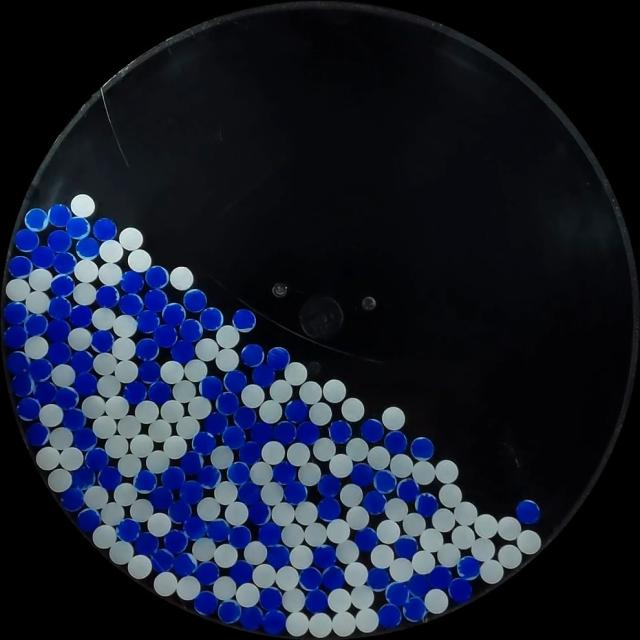pmmma-azul: (14, 228, 40, 253), (427, 565, 452, 591), (515, 499, 540, 525), (35, 381, 61, 406), (70, 468, 99, 490), (48, 296, 73, 321), (72, 426, 97, 451), (150, 548, 175, 573), (164, 528, 188, 554), (194, 590, 218, 616), (321, 565, 345, 591), (448, 576, 472, 602), (262, 609, 286, 635), (179, 450, 203, 476), (92, 217, 118, 241), (402, 596, 426, 622), (172, 552, 196, 577), (360, 418, 384, 443), (183, 515, 208, 539), (16, 397, 41, 421), (116, 518, 141, 542), (223, 369, 247, 394), (73, 371, 97, 396), (48, 203, 72, 228), (238, 481, 262, 506), (456, 556, 481, 580), (350, 462, 374, 487), (229, 560, 254, 584), (217, 600, 242, 624), (266, 544, 290, 569), (312, 544, 336, 569), (377, 603, 401, 628), (272, 461, 297, 485), (354, 527, 378, 552), (183, 288, 208, 312), (31, 245, 56, 269), (8, 255, 33, 279), (316, 497, 341, 521), (304, 588, 328, 613), (249, 419, 273, 444), (11, 372, 34, 398), (97, 466, 121, 490), (134, 531, 158, 555), (161, 466, 185, 490), (70, 350, 94, 374), (410, 436, 434, 460), (317, 474, 341, 498), (194, 561, 218, 585), (206, 518, 230, 542), (179, 480, 203, 504), (4, 324, 28, 348), (258, 522, 282, 546), (192, 431, 216, 455), (69, 304, 93, 328), (385, 582, 409, 606), (119, 292, 143, 316), (144, 288, 168, 312), (162, 302, 186, 326), (47, 340, 71, 364), (120, 270, 144, 294), (4, 301, 28, 325), (145, 265, 169, 289), (266, 346, 290, 370), (232, 308, 256, 332), (240, 606, 264, 630), (47, 318, 71, 342), (384, 429, 407, 454), (200, 306, 223, 331), (299, 566, 322, 591), (26, 422, 49, 447), (396, 478, 419, 503), (52, 252, 77, 275), (415, 492, 438, 517), (24, 208, 49, 231), (50, 274, 75, 297), (66, 216, 91, 239), (76, 508, 100, 531), (90, 329, 114, 352), (296, 420, 319, 444), (222, 424, 245, 448), (200, 375, 223, 399), (259, 587, 283, 610), (96, 285, 120, 308), (55, 386, 79, 409), (179, 319, 203, 342), (233, 406, 256, 430), (85, 447, 108, 471), (148, 380, 171, 404), (137, 361, 161, 384), (197, 464, 220, 488), (124, 381, 147, 405), (171, 339, 194, 363), (363, 490, 386, 514), (150, 486, 173, 510), (216, 391, 239, 415), (204, 411, 227, 435), (273, 421, 297, 444), (24, 313, 48, 336), (283, 481, 307, 504), (136, 309, 159, 333), (48, 230, 72, 253), (62, 408, 86, 431), (6, 351, 30, 374), (366, 567, 390, 590), (60, 488, 84, 511), (75, 238, 100, 260), (238, 442, 263, 464), (374, 468, 396, 493), (136, 338, 159, 361), (241, 343, 264, 366), (228, 525, 251, 548), (227, 461, 250, 484), (168, 500, 191, 523), (29, 358, 53, 380), (134, 469, 156, 493), (248, 501, 270, 525), (154, 323, 176, 346), (394, 536, 417, 558), (285, 400, 308, 422), (329, 420, 351, 443), (252, 364, 274, 386), (408, 572, 428, 596)
